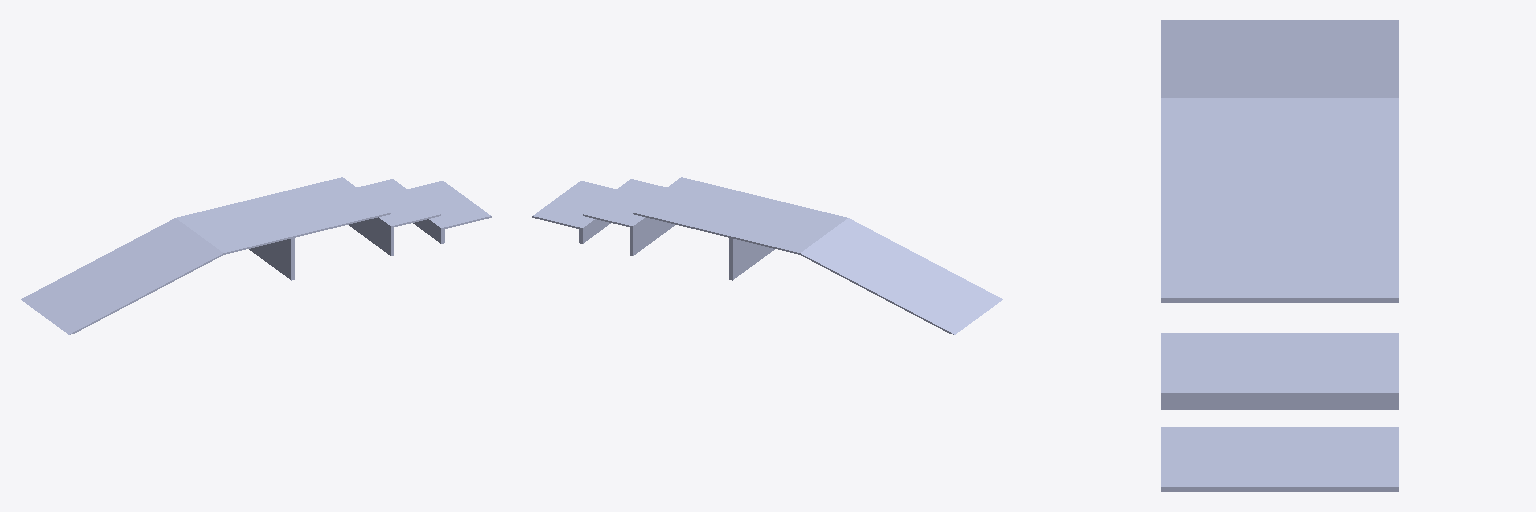
URDF robot description (map15):
<?xml version="1.0" encoding="utf-8"?>
<!-- This URDF was automatically created by SolidWorks to URDF Exporter! Originally created by [author] ([email redacted]) 
     Commit Version: 1.6.0-1-g15f4949  Build Version: 1.6.7594.29634
     For more information, please see http://wiki.ros.org/sw_urdf_exporter -->
<robot
  name="map15">
  <link
    name="map15">
    <inertial>
      <origin
        xyz="-0.0383133401164782 2.22044604925031E-16 -0.0998769834139619"
        rpy="0 0 0" />
      <mass
        value="17.3197356760313" />
      <inertia
        ixx="0.449742932217979"
        ixy="1.53816690384165E-15"
        ixz="-0.326254423625024"
        iyy="3.27307609023858"
        iyz="2.06500213628717E-16"
        izz="3.54498881118857" />
    </inertial>
    <visual>
      <origin
        xyz="0 0 0"
        rpy="0 0 0" />
      <geometry>
        <mesh
          filename="package://map15/meshes/map15.STL" />
      </geometry>
      <material
        name="">
        <color
          rgba="0.792156862745098 0.819607843137255 0.933333333333333 1" />
      </material>
    </visual>
    <collision>
      <origin
        xyz="0 0 0"
        rpy="0 0 0" />
      <geometry>
        <mesh
          filename="package://map15/meshes/map15.STL" />
      </geometry>
    </collision>
  </link>
</robot>

--- What the picture shows (computed from the rendered views, not written in the file) ---
Views: 3 orthographic renders of the robot side by side, from view 1: azimuth 30°, elevation 25°; view 2: azimuth 150°, elevation 25°; view 3: azimuth 270°, elevation 25°.
Robot: map15 — 1 links, 0 joints (none); root link map15; default pose: every joint at zero.
Visible links, largest first — view 1: map15; view 2: map15; view 3: map15.
Link boxes in pixels (x1,y1,x2,y2): map15: (21, 177, 491, 334); map15: (532, 177, 1002, 334); map15: (1161, 20, 1398, 491).
Bounding box of the posed robot: 2.52 × 0.5 × 0.25 m (x, y, z).
Meshes: 1 distinct files referenced, 1 mesh visuals loaded (1 binary STL).